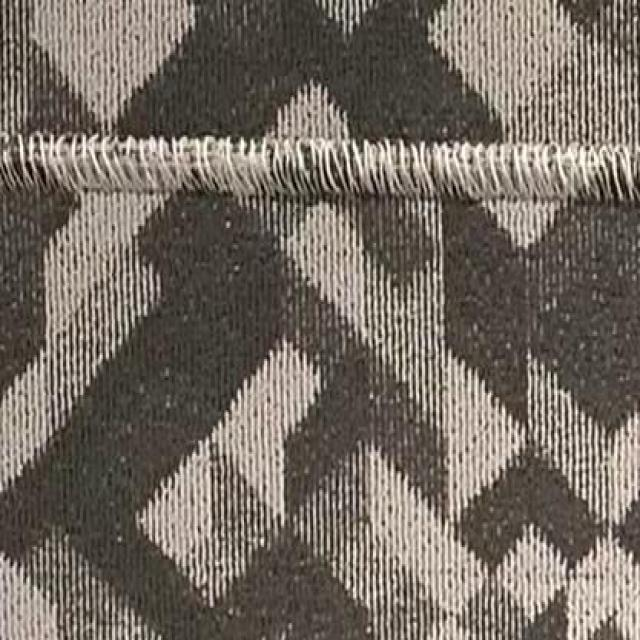gray stitch: (0, 130, 637, 206)
